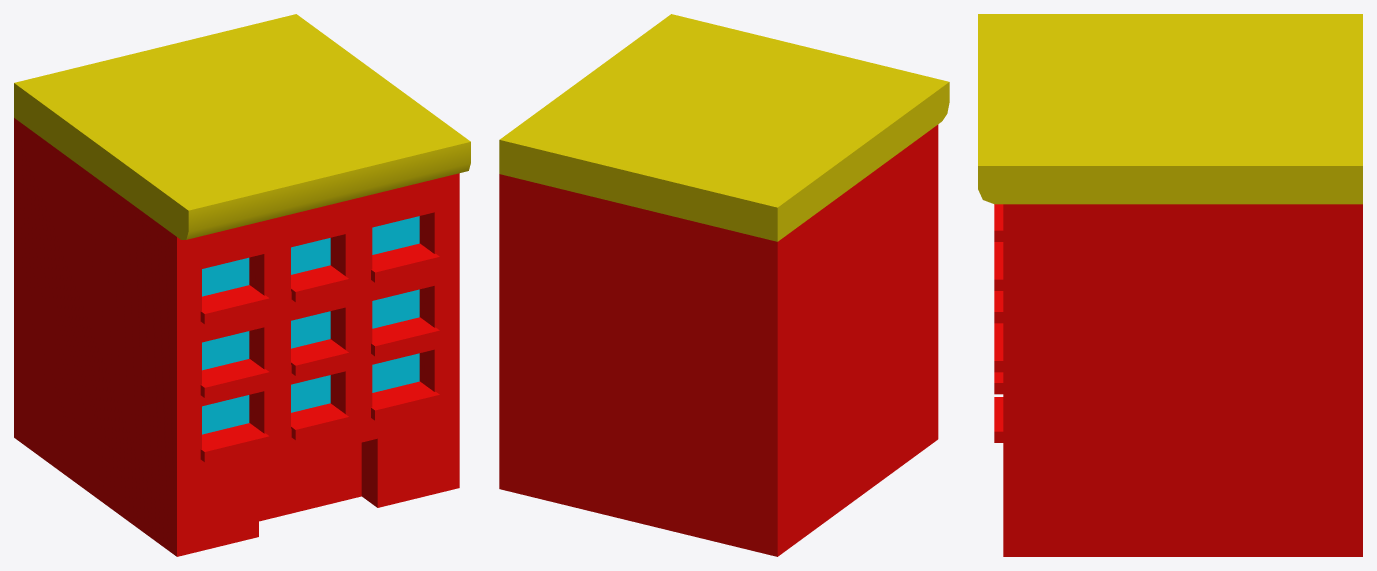
Rendered from VRGJApartment1.fbx.
3 views of the same model, side by side, from view 1: azimuth 30°, elevation 25°; view 2: azimuth 150°, elevation 25°; view 3: azimuth 270°, elevation 25° (orthographic). The views are drawn at different scales.
Parts seen in each view (by area): view 1: Apartment1; view 2: Apartment1; view 3: Apartment1.
Boxes of the visible parts, box(x1,y1,x2,y2) form: Apartment1: box(14, 14, 470, 556); Apartment1: box(499, 14, 949, 556); Apartment1: box(978, 14, 1362, 556).
Bounding box in the file's own units: 1000 × 1200 × 1070.
